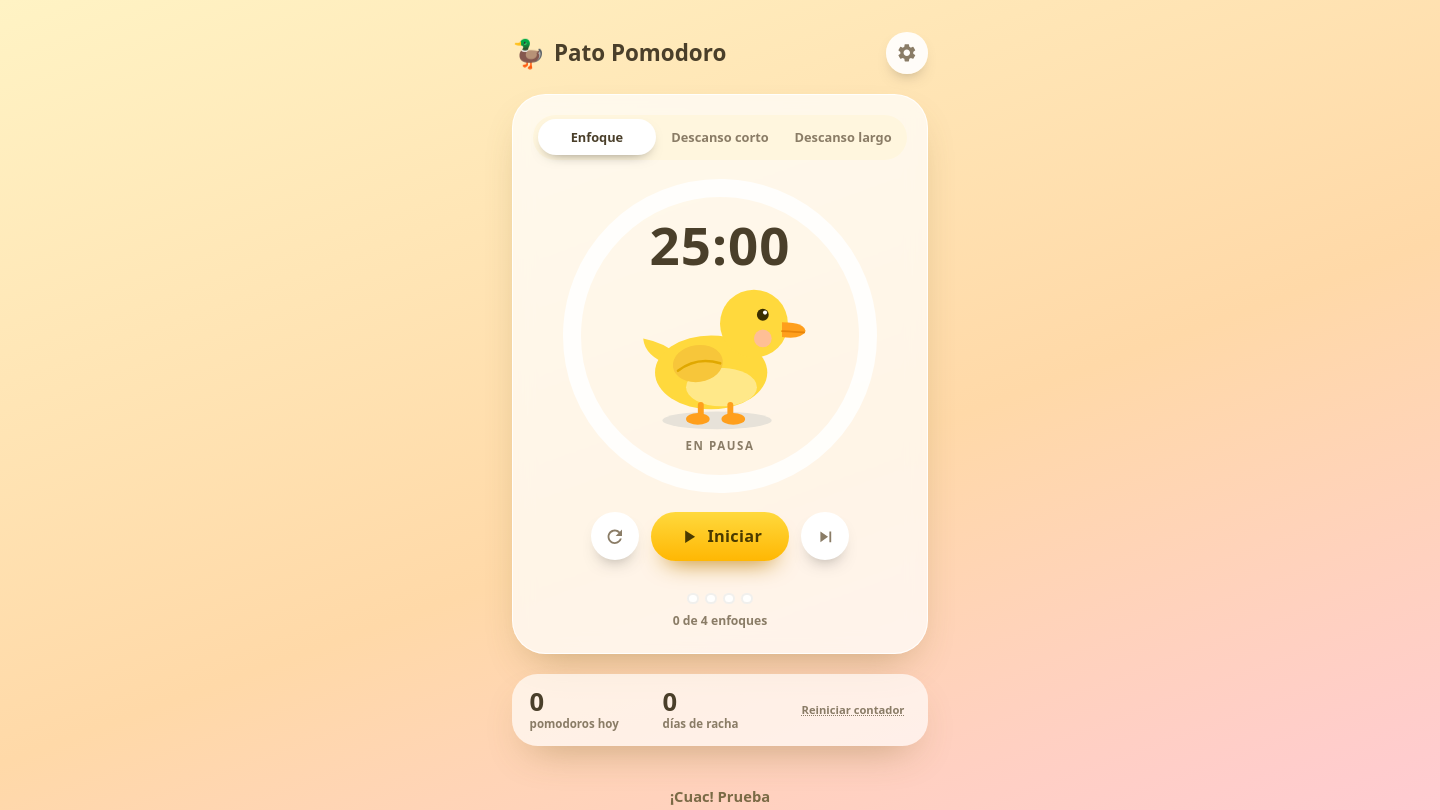
App › cambia de modo con las pestañas
Expected: the text "¡Cuac! Prueba" is shown, x1=670 y1=786 x2=770 y2=806
Click the tab "Descanso corto".
click(720, 137)  # box x1=661 y1=119 x2=779 y2=155
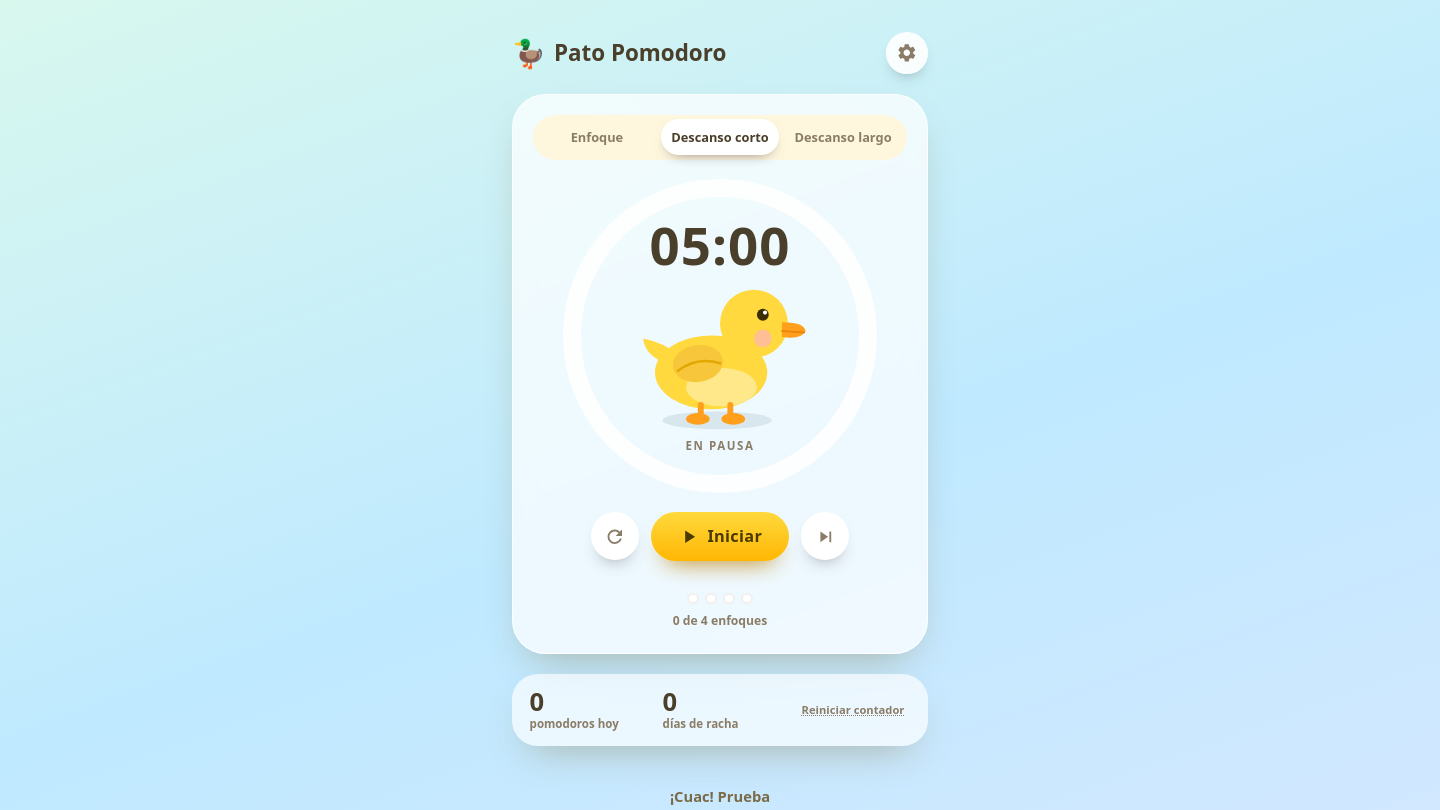
Now the text "05:00" is shown, box x1=650 y1=219 x2=790 y2=272
Click the tab "Descanso largo".
click(843, 137)  # box x1=784 y1=119 x2=902 y2=155
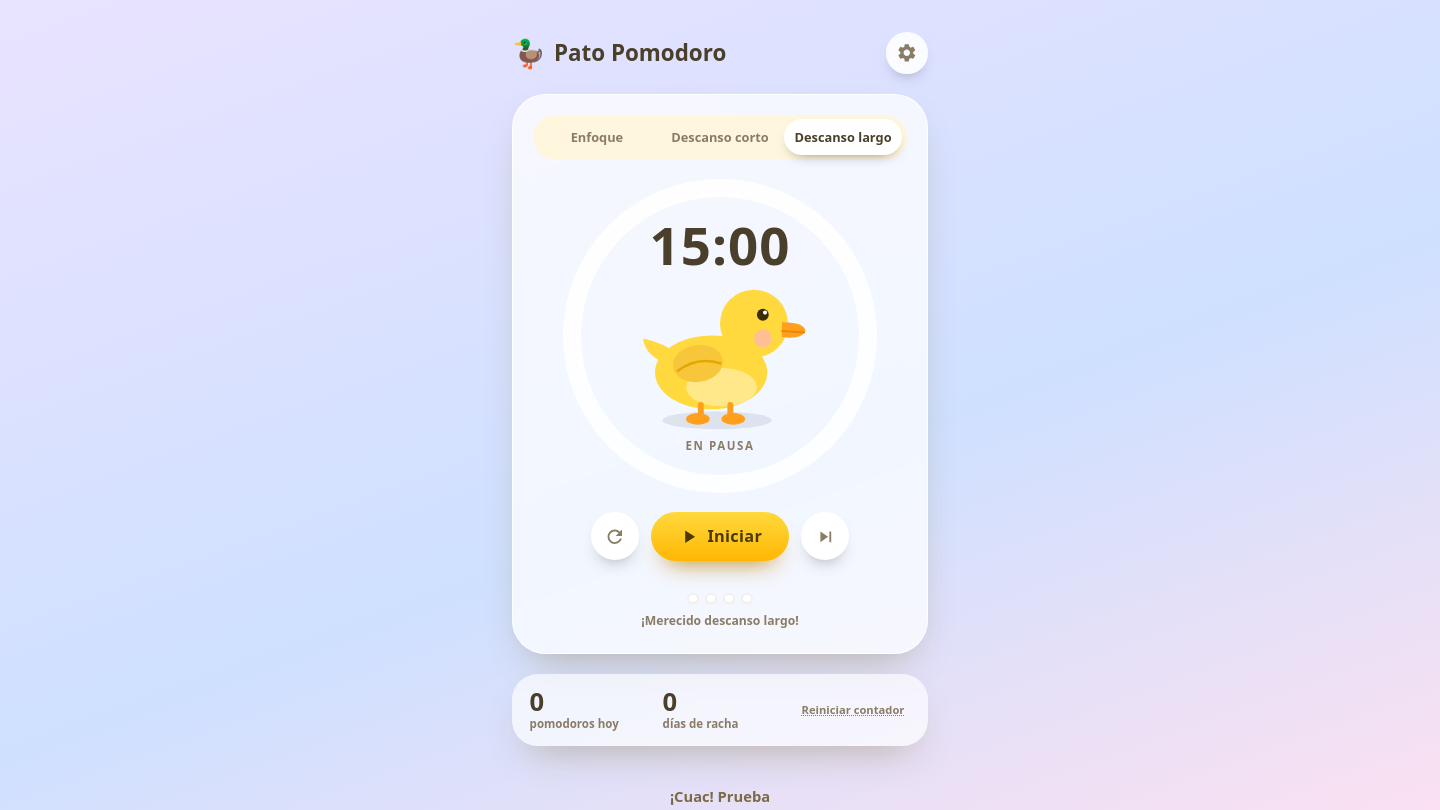
Now the text "15:00" is shown, box x1=650 y1=219 x2=790 y2=272
Now the text "¡Merecido descanso largo!" is shown, box x1=641 y1=612 x2=799 y2=629
